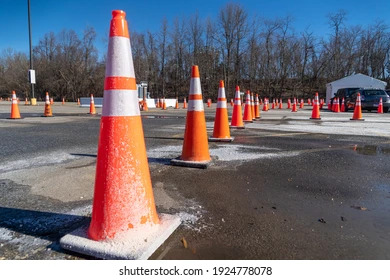cones: (62, 8, 187, 259), (178, 63, 211, 170)
